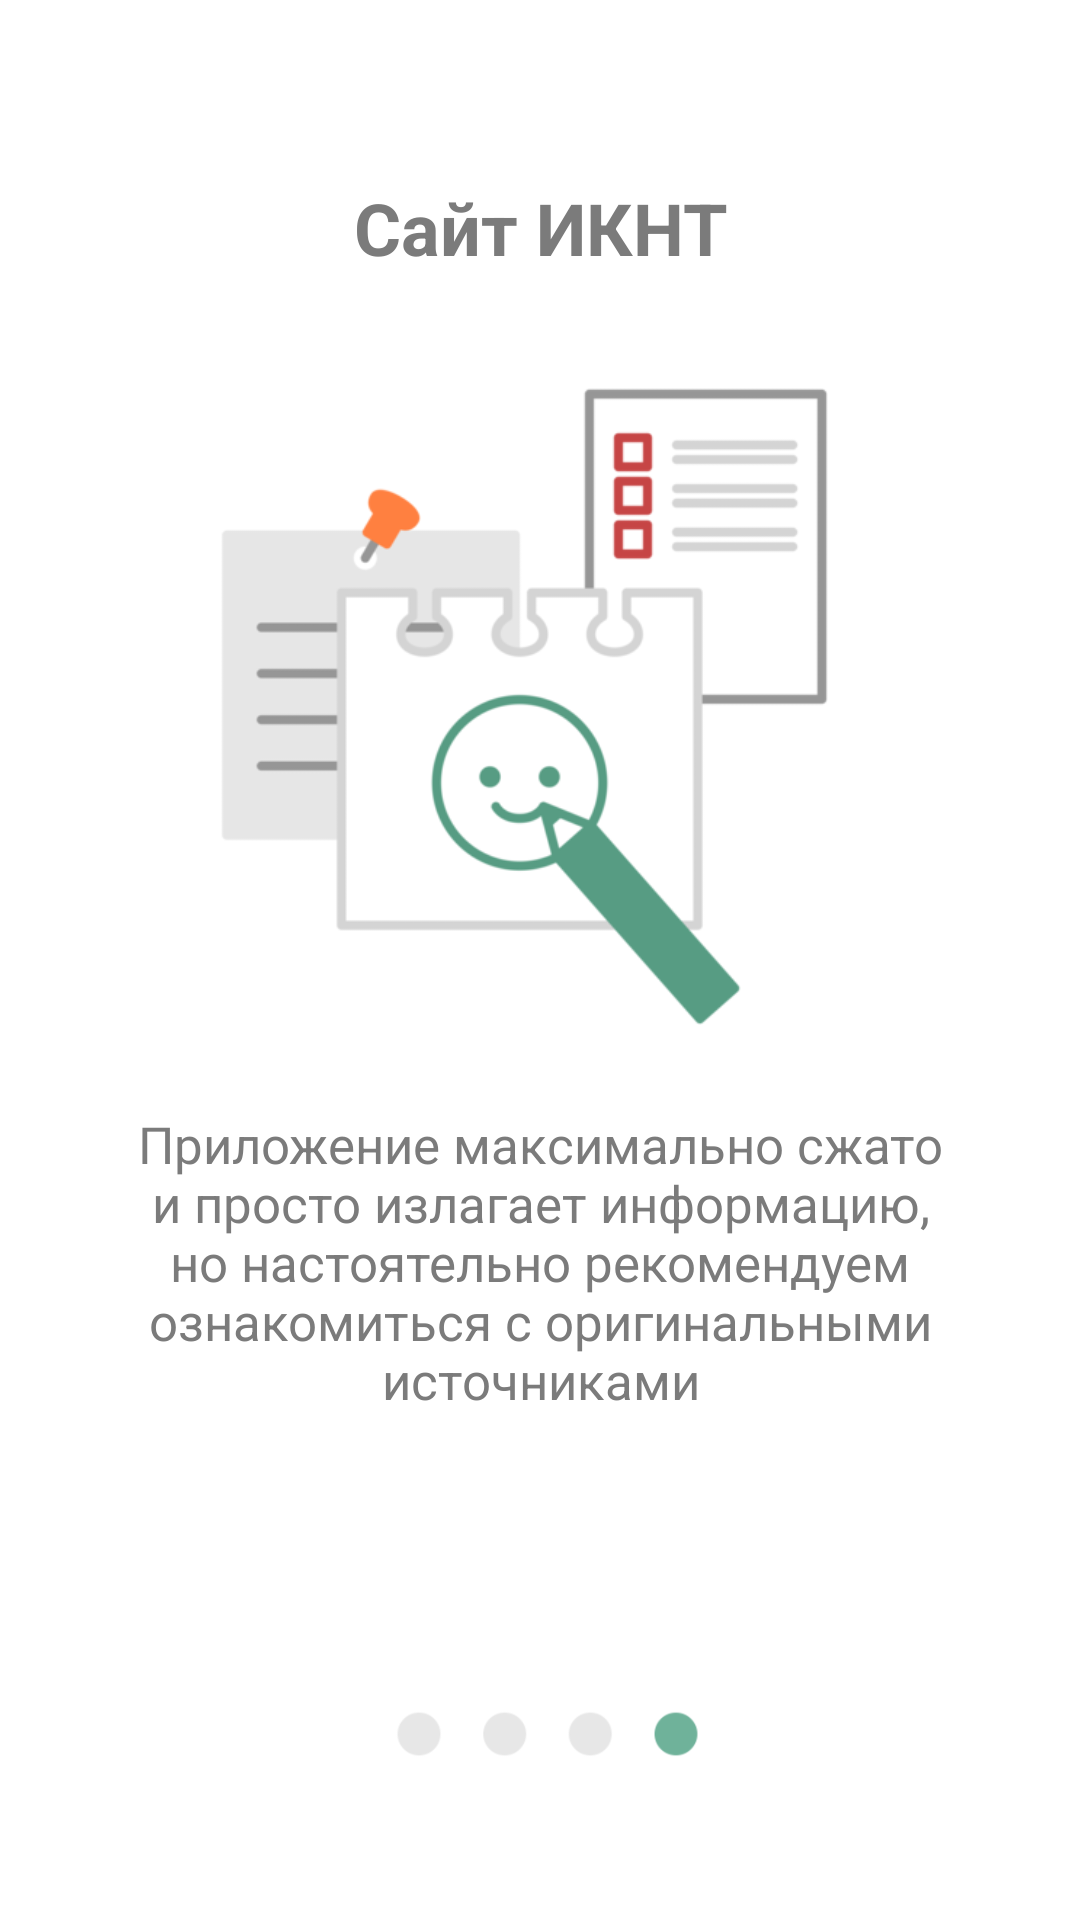

Icon bounding boxes for this 1080w x 1920h phone screenshot, format bbox(x1, y1, x2, y2):
dots: bbox(484, 1712, 698, 1756)
